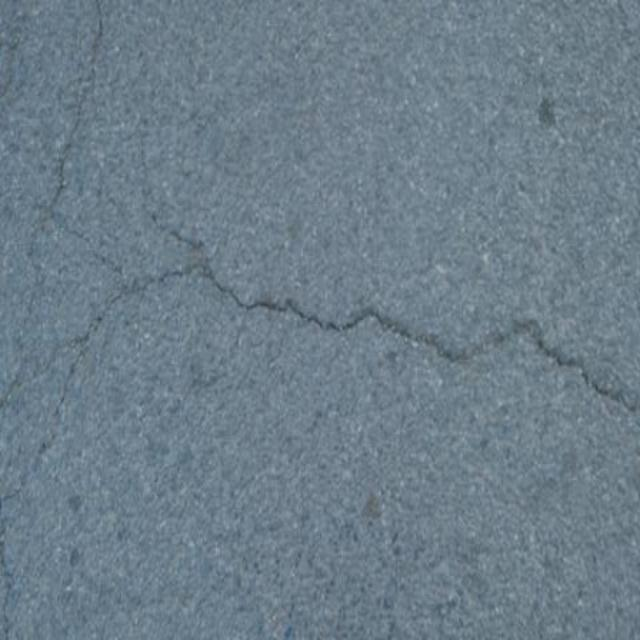GRIETA: (194, 258, 639, 411), (54, 267, 195, 420), (38, 0, 103, 227)
